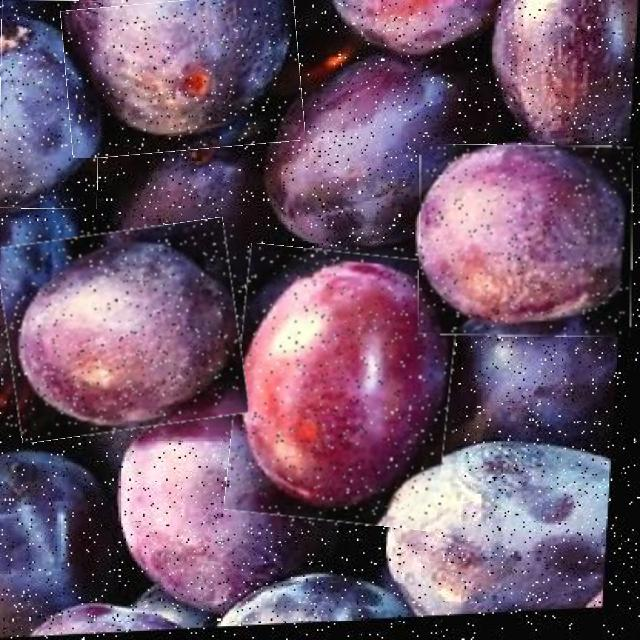plum: (231, 248, 456, 526), (1, 225, 242, 436), (419, 145, 633, 337), (63, 0, 302, 153), (0, 0, 98, 209)
